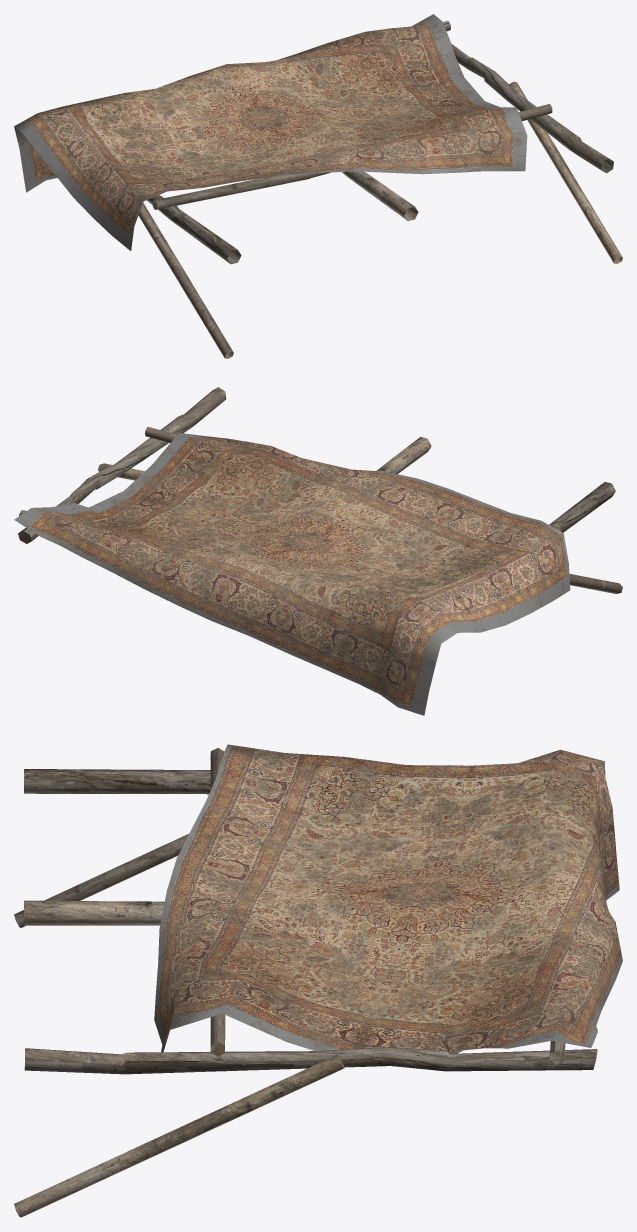
The model's file is Fabric3.fbx.
The picture shows the model from 3 angles, top to bottom: view 1: azimuth 30°, elevation 25°; view 2: azimuth 150°, elevation 25°; view 3: azimuth 270°, elevation 25°; orthographic projection. The views are drawn at different scales.
Visible parts, largest first — view 1: polySurface43; view 2: polySurface43; view 3: polySurface43.
Boxes of the visible parts, bbox=[...] form: polySurface43: bbox=[14, 14, 622, 358]; polySurface43: bbox=[14, 387, 622, 715]; polySurface43: bbox=[14, 744, 622, 1217].
Size of the model in its own units: 3.25 by 0.863 by 2.66.
